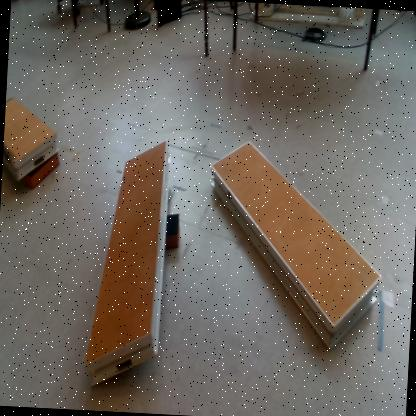Stairs: (212, 144, 381, 353), (85, 141, 172, 388), (3, 95, 60, 181)
